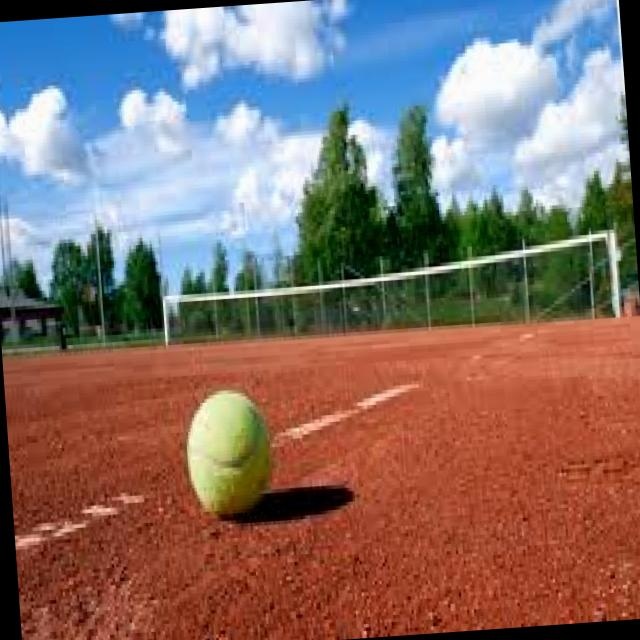Tennis Ball: (184, 389, 275, 514)
